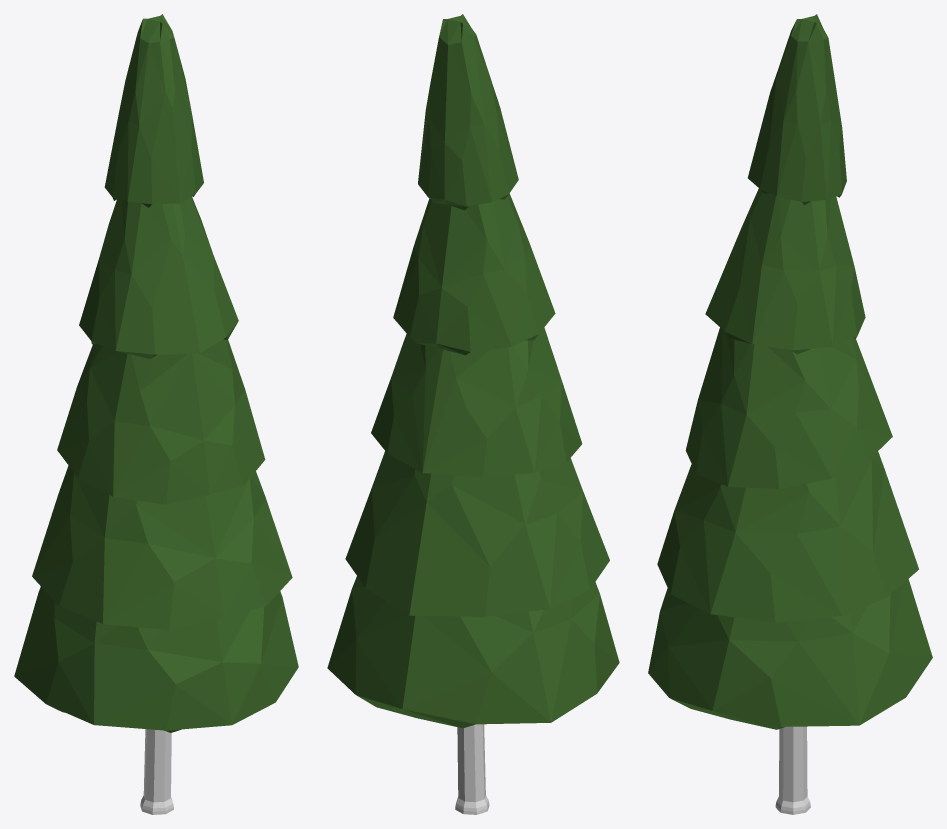
File: SM_Tree3.fbx
The picture shows the model from 3 angles, left to right: view 1: azimuth 30°, elevation 25°; view 2: azimuth 150°, elevation 25°; view 3: azimuth 270°, elevation 25°; orthographic projection.
Parts seen in each view (by area): view 1: Cylinder.001, Cylinder.005; view 2: Cylinder.001, Cylinder.005; view 3: Cylinder.001, Cylinder.005.
Part boxes in pixels (bbox=[...]): Cylinder.001: bbox=[14, 14, 298, 732]; Cylinder.005: bbox=[140, 729, 173, 814]; Cylinder.001: bbox=[327, 14, 619, 728]; Cylinder.005: bbox=[455, 724, 489, 814]; Cylinder.001: bbox=[648, 14, 932, 729]; Cylinder.005: bbox=[775, 726, 810, 814].
Bounding box in the file's own units: 143 × 148 × 455.
